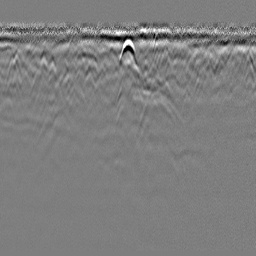cavity: (118, 37, 139, 71)
